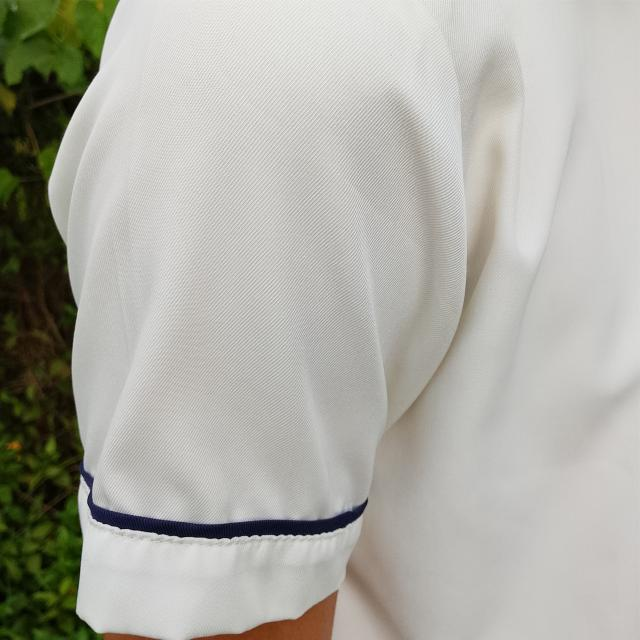education_male_uniform: (12, 0, 618, 640)
